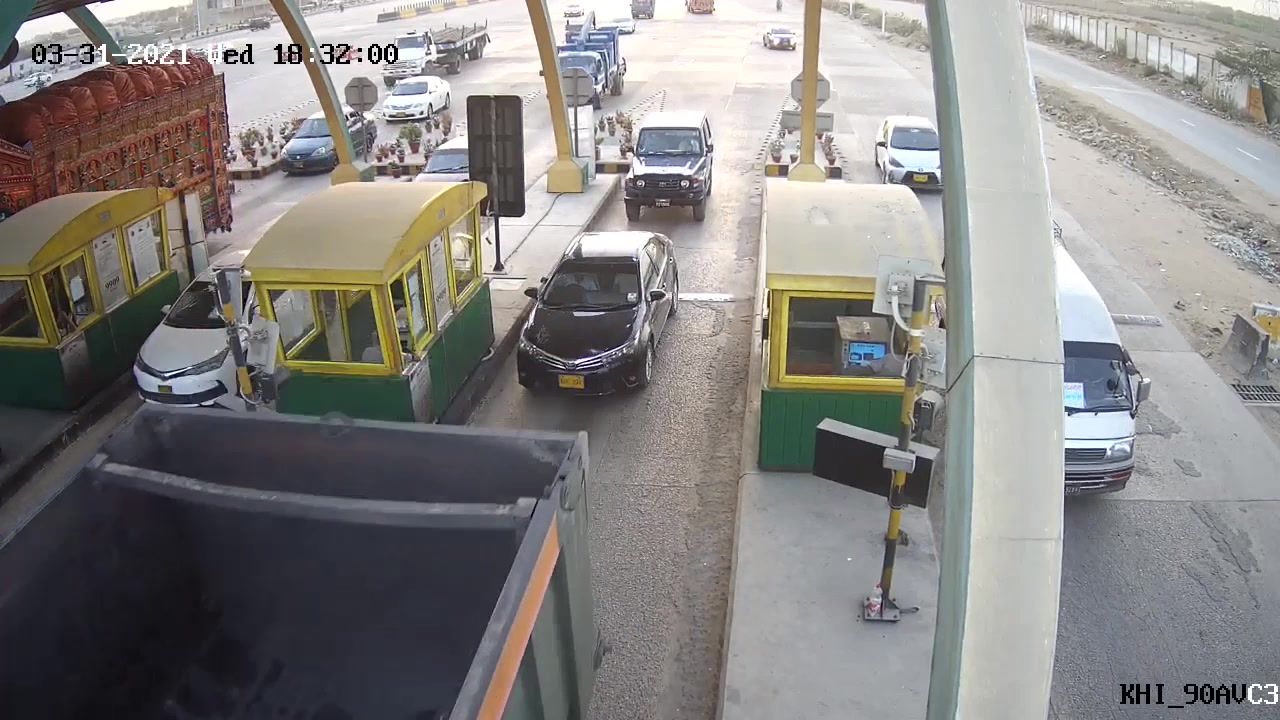F1: (507, 225, 686, 407), (612, 106, 720, 223)
